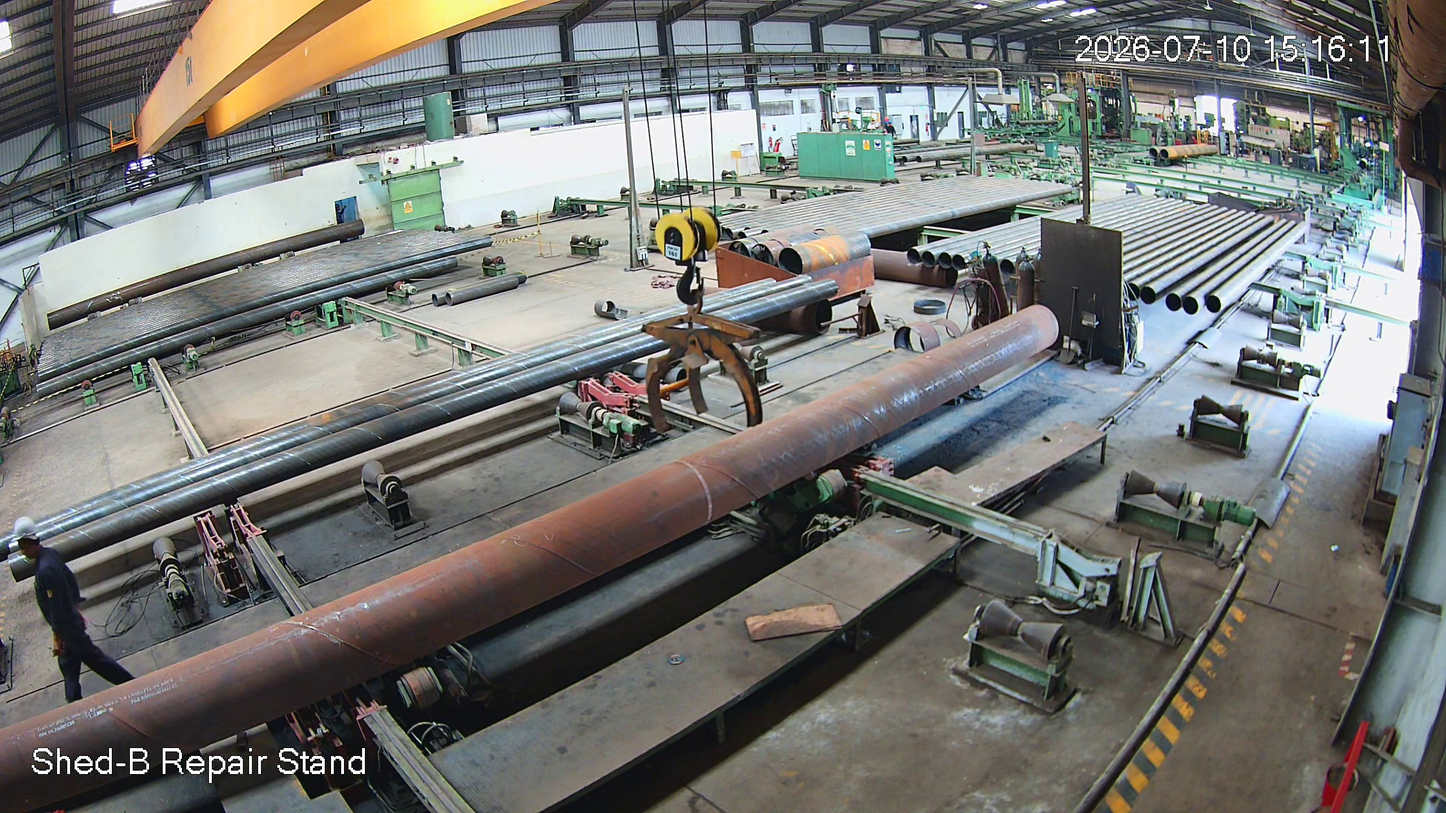Helmet: (6, 509, 68, 580)
Person: (5, 513, 138, 706)
